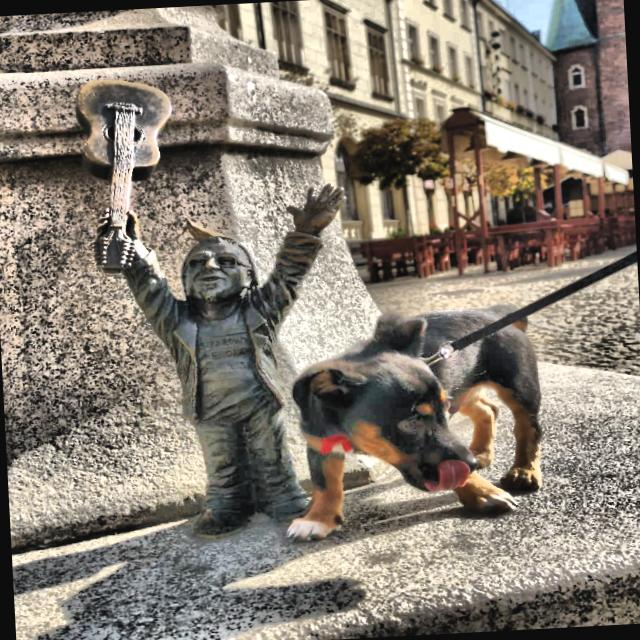Leszko_z_Wroclawia: (75, 80, 346, 538)
